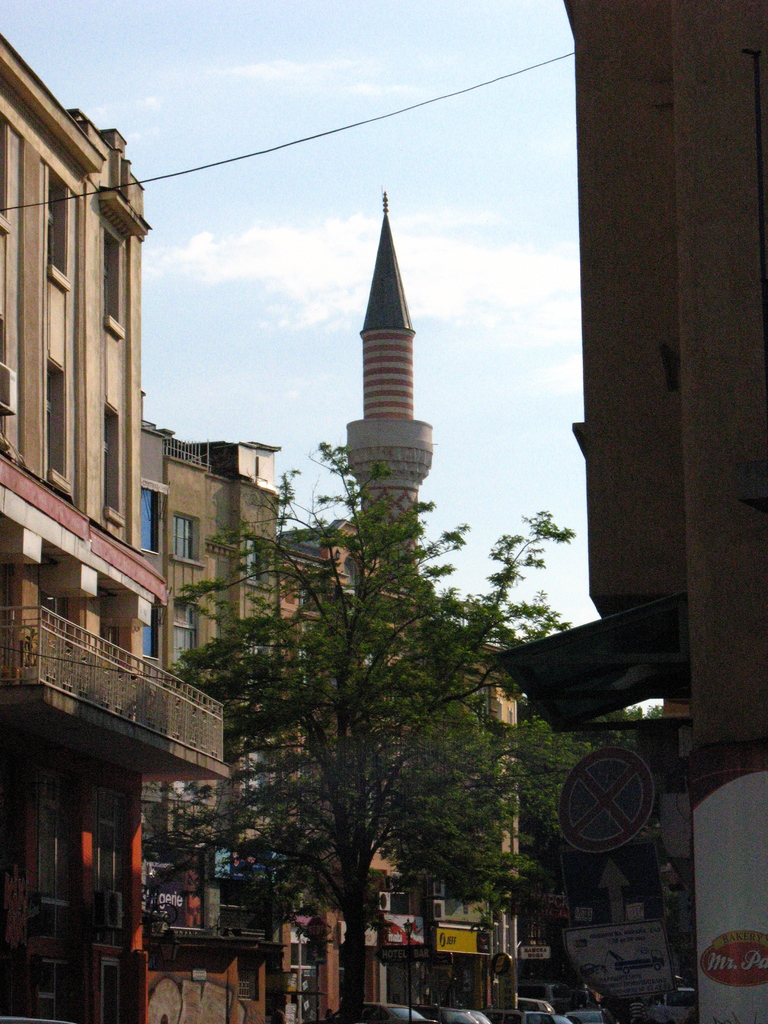Tree: (206, 396, 540, 954)
